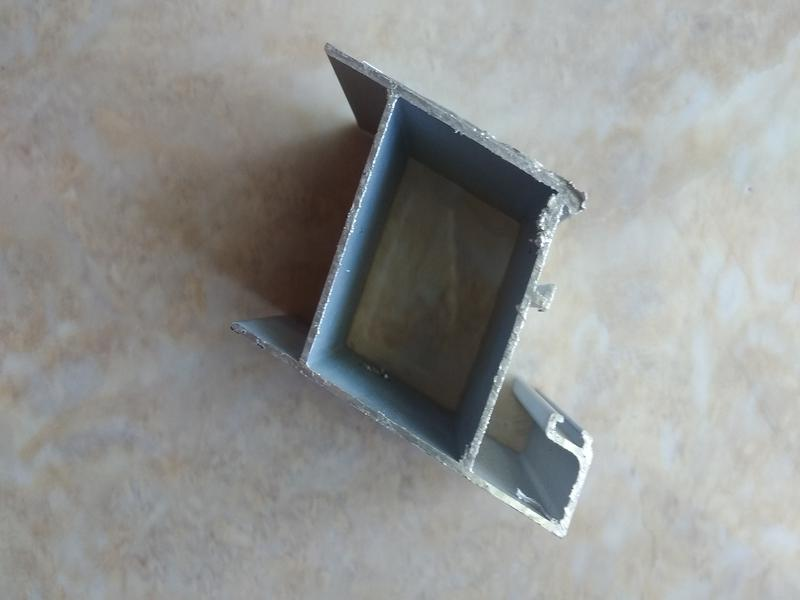Aluminium_2: (215, 21, 623, 555)
